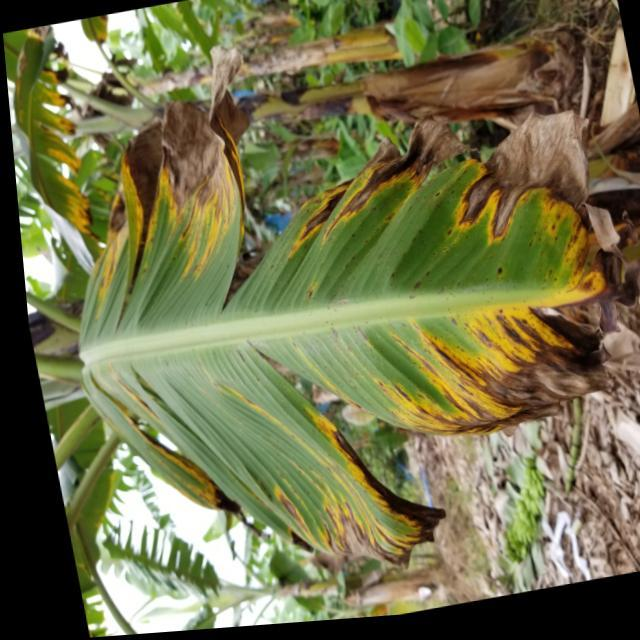Early_rust: (53, 294, 619, 567), (62, 43, 610, 298), (0, 29, 103, 251)
